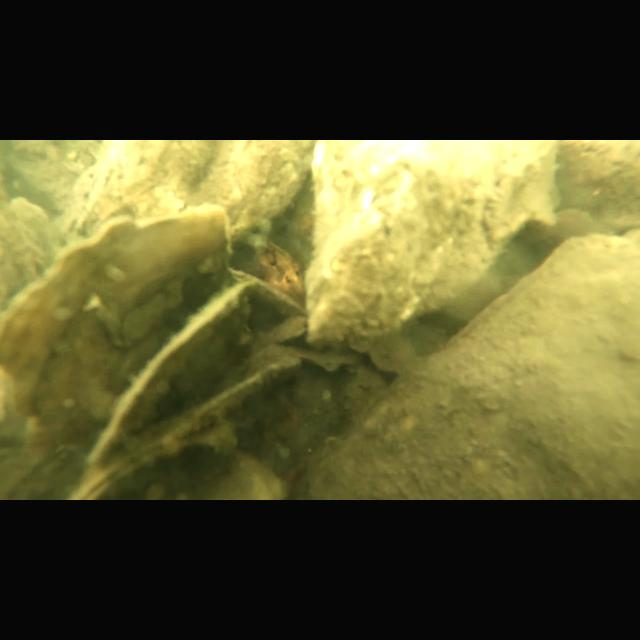Oyster-Closed: (296, 228, 640, 500), (4, 203, 230, 469), (305, 140, 559, 348)
Oyster-Open: (92, 281, 300, 487), (70, 434, 286, 500), (225, 225, 308, 321)
